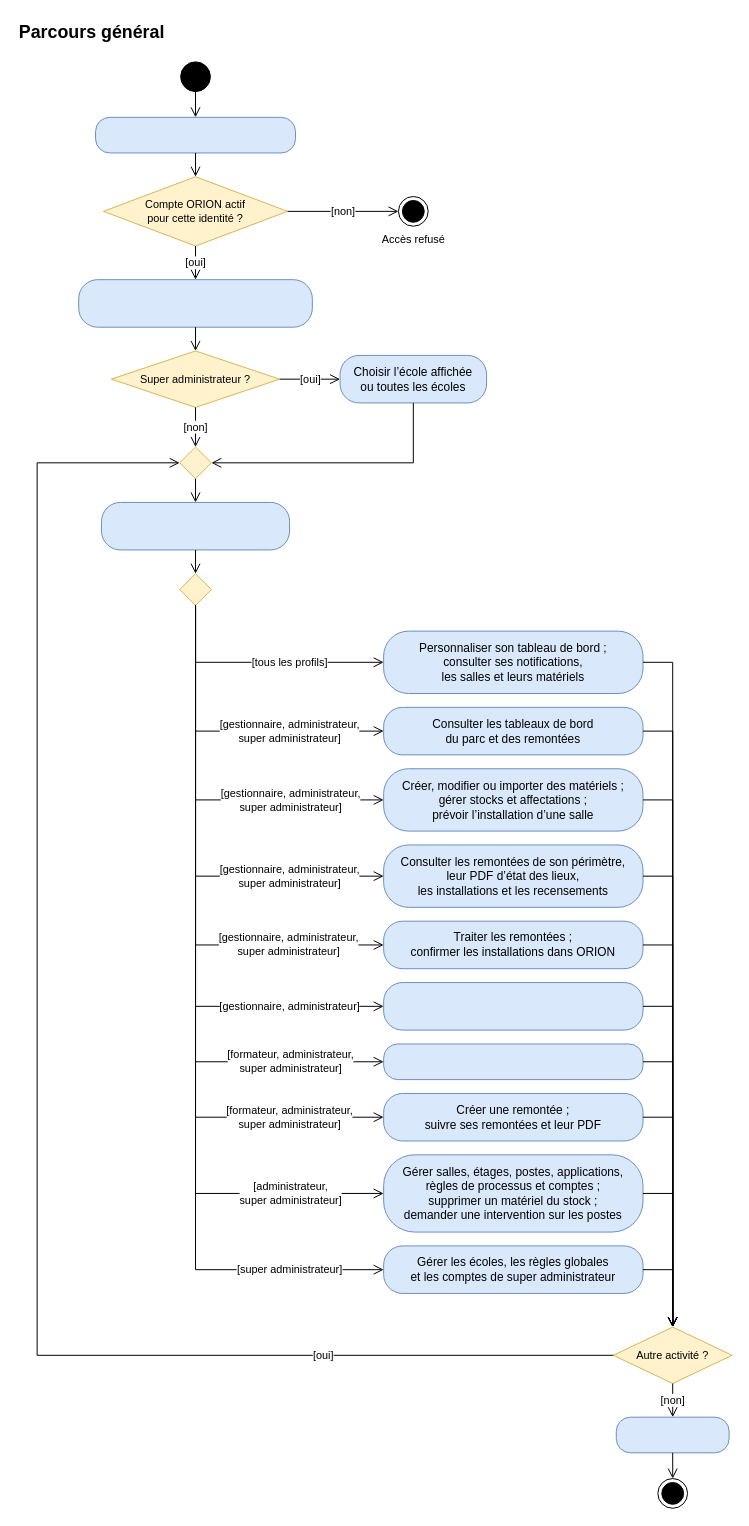
The diagram is 749 pixels wide and 1526 high, and some of its shapes have lost their labels. The centre of each missing label's shape, as x and y in pixels:
"Afficher son tableau de bord personnel et le résumé de ses notifications" belongs at pixel 195 303.
"Choisir une activité accessible selon son profil" belongs at pixel 195 525.
"Lancer et réaliser les recensements ; installer une salle avec RIGEL" belongs at pixel 513 1006.
"Se déconnecter" belongs at pixel 672 1434.
"Superviser une salle" belongs at pixel 513 1061.
"S’authentifier via MindefConnect" belongs at pixel 195 134.
